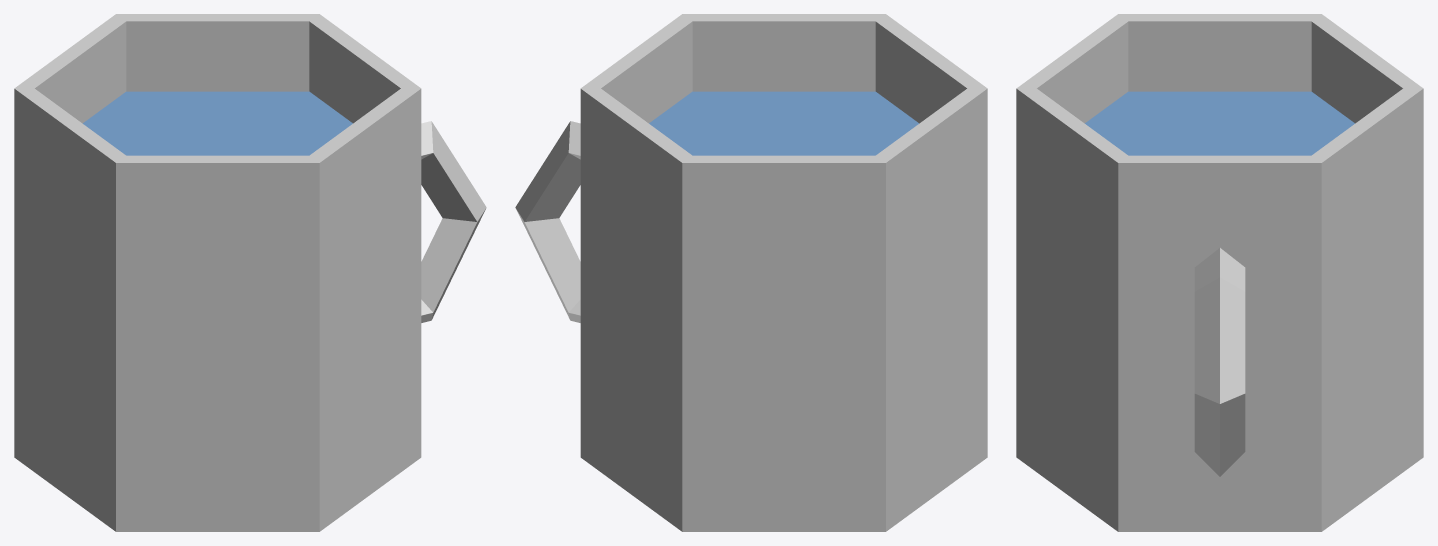
The model's file is Cup3Water.fbx.
3 views of the same model, side by side, from view 1: azimuth 30°, elevation 25°; view 2: azimuth 150°, elevation 25°; view 3: azimuth 270°, elevation 25° (orthographic).
Visible parts, largest first — view 1: Cylinder; view 2: Cylinder; view 3: Cylinder.
Boxes of the visible parts, x1,y1,x2,y2 form: Cylinder: [14, 14, 486, 531]; Cylinder: [515, 14, 987, 531]; Cylinder: [1016, 14, 1423, 531].
Bounding box in the file's own units: 0.263 × 0.22 × 0.22.
